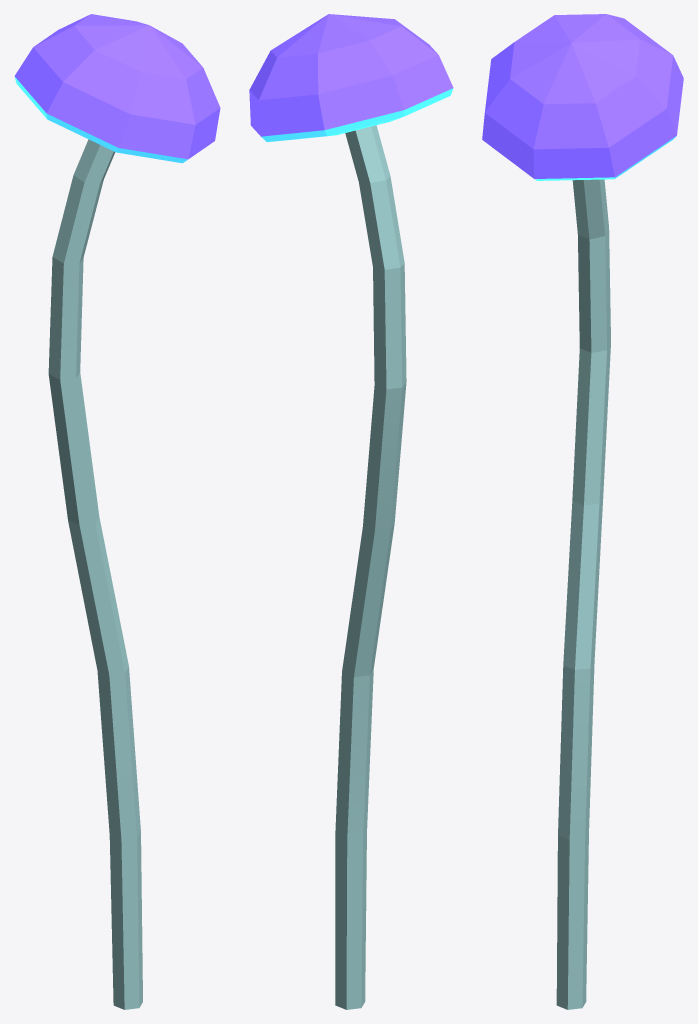
File: scifi_scifi-tree-mushroom-small.fbx
3 views of the same model, side by side, from view 1: azimuth 30°, elevation 25°; view 2: azimuth 150°, elevation 25°; view 3: azimuth 270°, elevation 25° (orthographic).
Parts seen in each view (by area): view 1: scifi_scifi_tree_mushroom_small; view 2: scifi_scifi_tree_mushroom_small; view 3: scifi_scifi_tree_mushroom_small.
Boxes of the visible parts, box(x1,y1,x2,y2) form: scifi_scifi_tree_mushroom_small: box(14, 14, 220, 1009); scifi_scifi_tree_mushroom_small: box(249, 14, 453, 1009); scifi_scifi_tree_mushroom_small: box(482, 14, 683, 1009).
Bounding box in the file's own units: 37.16 × 200 × 37.63.
